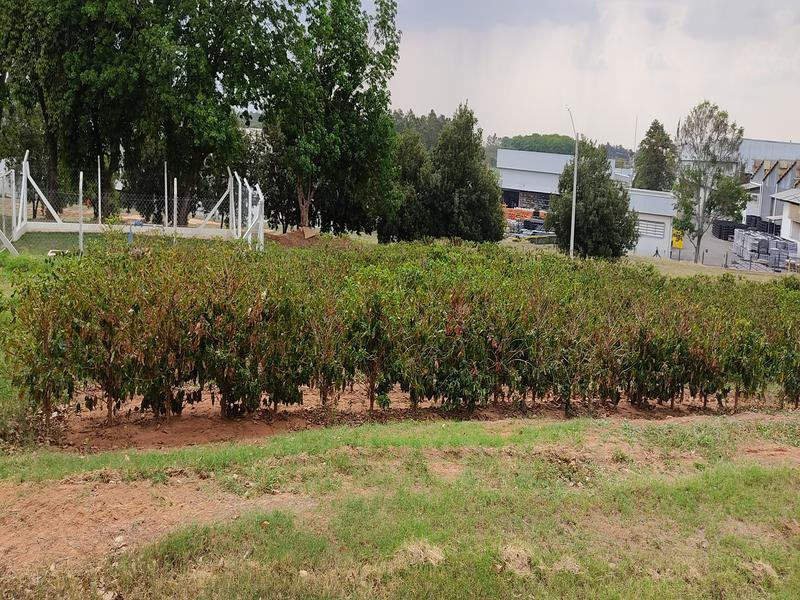coffee: (184, 273, 289, 435), (2, 274, 99, 443), (130, 274, 213, 443), (80, 272, 151, 442), (274, 293, 352, 437), (335, 290, 413, 432), (454, 302, 533, 431), (524, 303, 595, 422), (417, 295, 480, 426), (574, 308, 628, 421), (615, 323, 667, 422), (713, 331, 767, 411), (653, 329, 692, 418), (684, 332, 721, 415)
